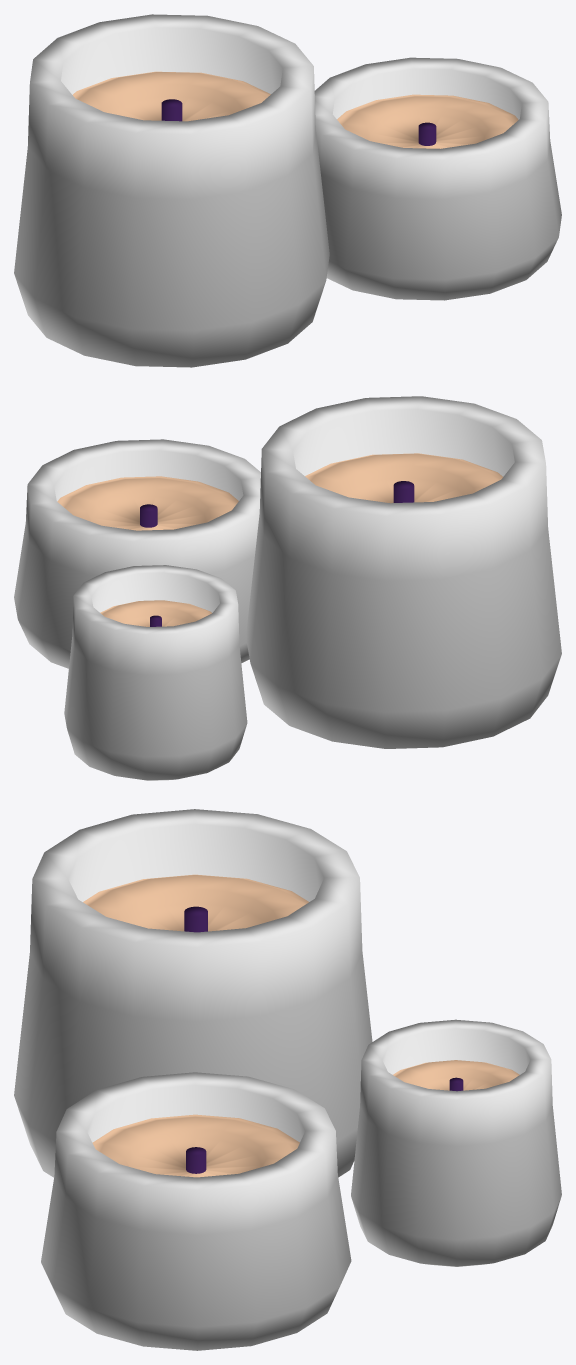
File: candleC.glb
3 views of the same model, one above another, from view 1: azimuth 30°, elevation 25°; view 2: azimuth 150°, elevation 25°; view 3: azimuth 270°, elevation 25° (orthographic). The views are drawn at different scales.
Parts seen in each view (by area): view 1: candleC_colourA, candleC_colourB, candleC; view 2: candleC_colourA, candleC_colourC, candleC_colourB, candleC; view 3: candleC_colourA, candleC_colourB, candleC_colourC, candleC.
Boxes of the visible parts, box(x1,y1,x2,y2) form: candleC_colourA: box(14, 14, 329, 367); candleC_colourB: box(314, 57, 561, 300); candleC: box(73, 71, 518, 148); candleC_colourA: box(246, 396, 561, 748); candleC_colourC: box(64, 565, 247, 780); candleC_colourB: box(14, 439, 260, 668); candleC: box(57, 453, 502, 626); candleC_colourA: box(14, 809, 372, 1177); candleC_colourB: box(41, 1072, 351, 1350); candleC_colourC: box(351, 1019, 561, 1266); candleC: box(83, 874, 519, 1177).
Bounding box in the file's own units: 0.4297 × 0.2007 × 0.3491.
4 materials, 1 textured.
